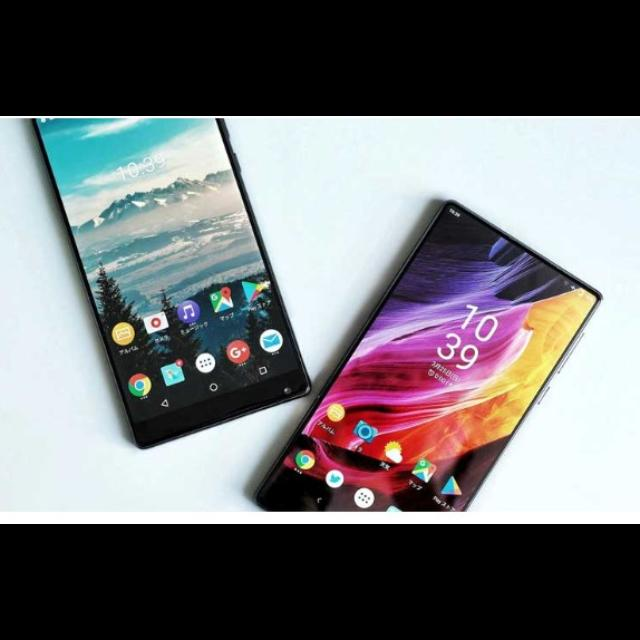Smartphone: (252, 202, 601, 514), (36, 116, 311, 450)
